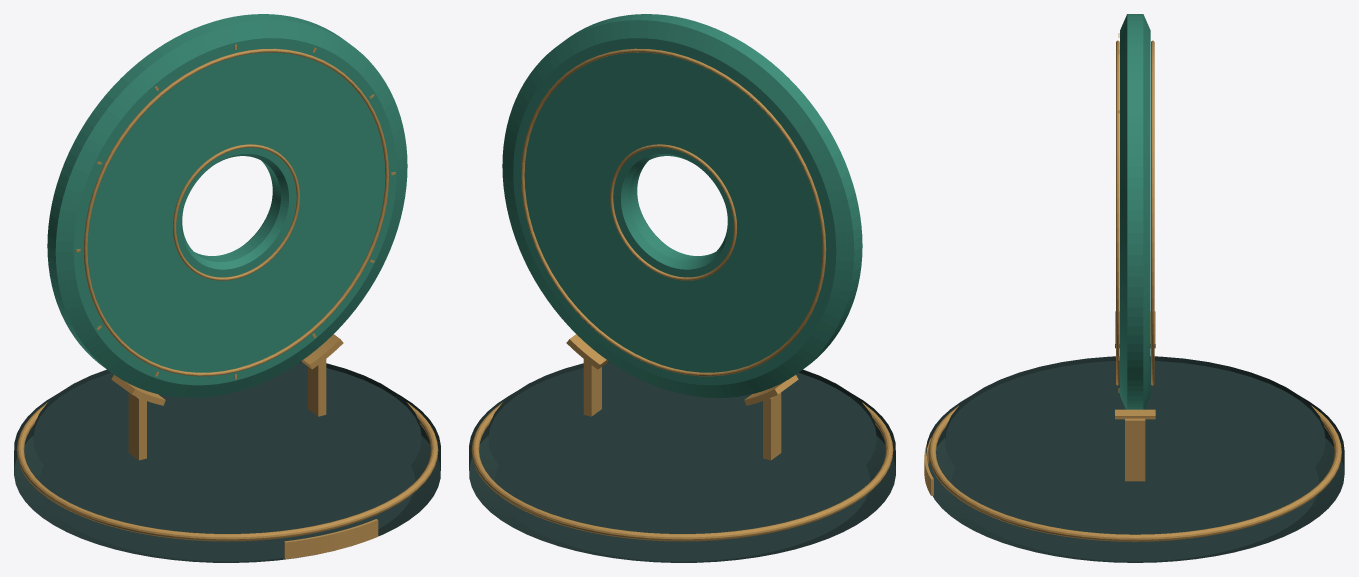
Rendered from china.glb.
3 views of the same model, side by side, from view 1: azimuth 30°, elevation 25°; view 2: azimuth 150°, elevation 25°; view 3: azimuth 270°, elevation 25° (orthographic). The views are drawn at different scales.
Parts seen in each view (by area): view 1: Jade disc; view 2: Jade disc; view 3: Jade disc.
Part boxes in pixels (bbox=[...]): Jade disc: bbox=[14, 14, 440, 562]; Jade disc: bbox=[469, 14, 895, 562]; Jade disc: bbox=[924, 14, 1344, 562].
Bounding box in the file's own units: 2.35 × 2.8 × 2.36.
